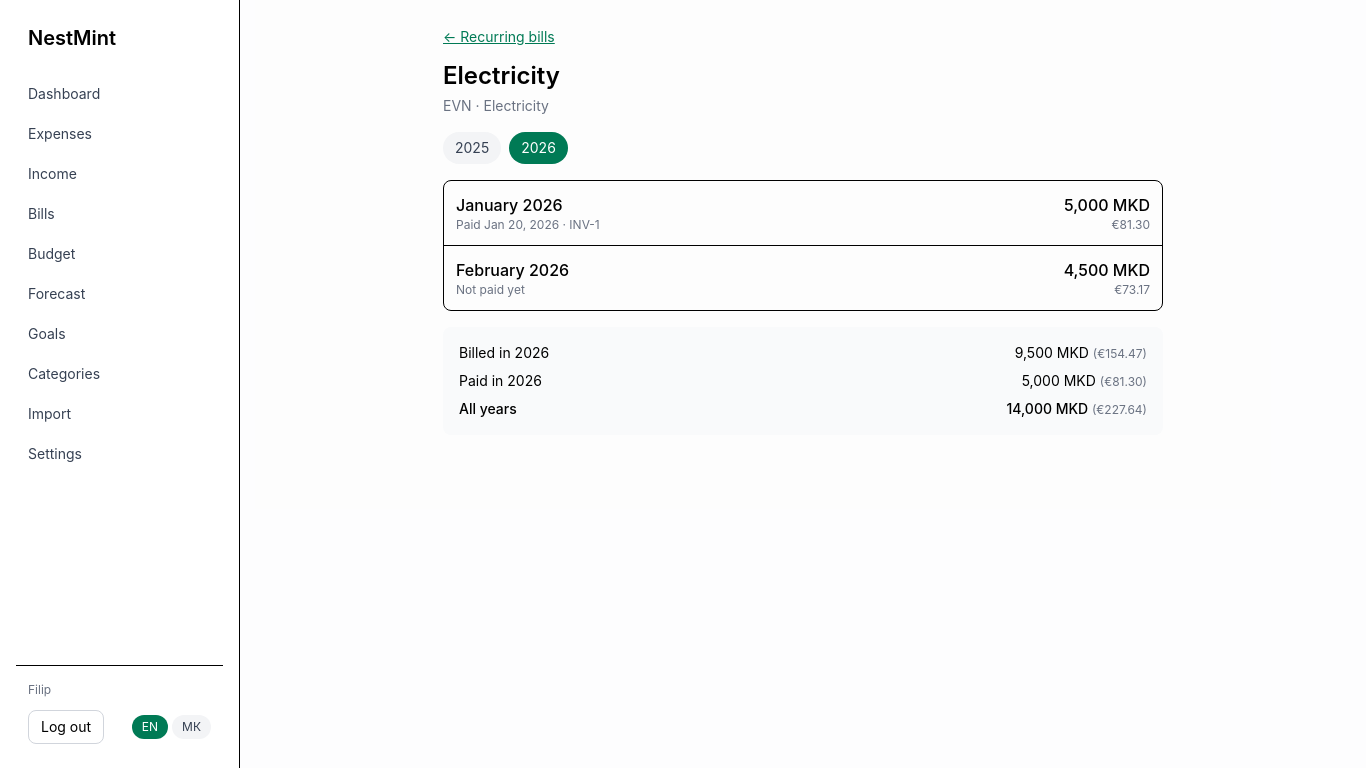
Test case: LedgerPage › switches the year and asks the server for it
Check: the text "January 2026" is shown, box [456, 195, 563, 215]
Click the button "2025".
click(472, 148)  # box [443, 132, 501, 164]
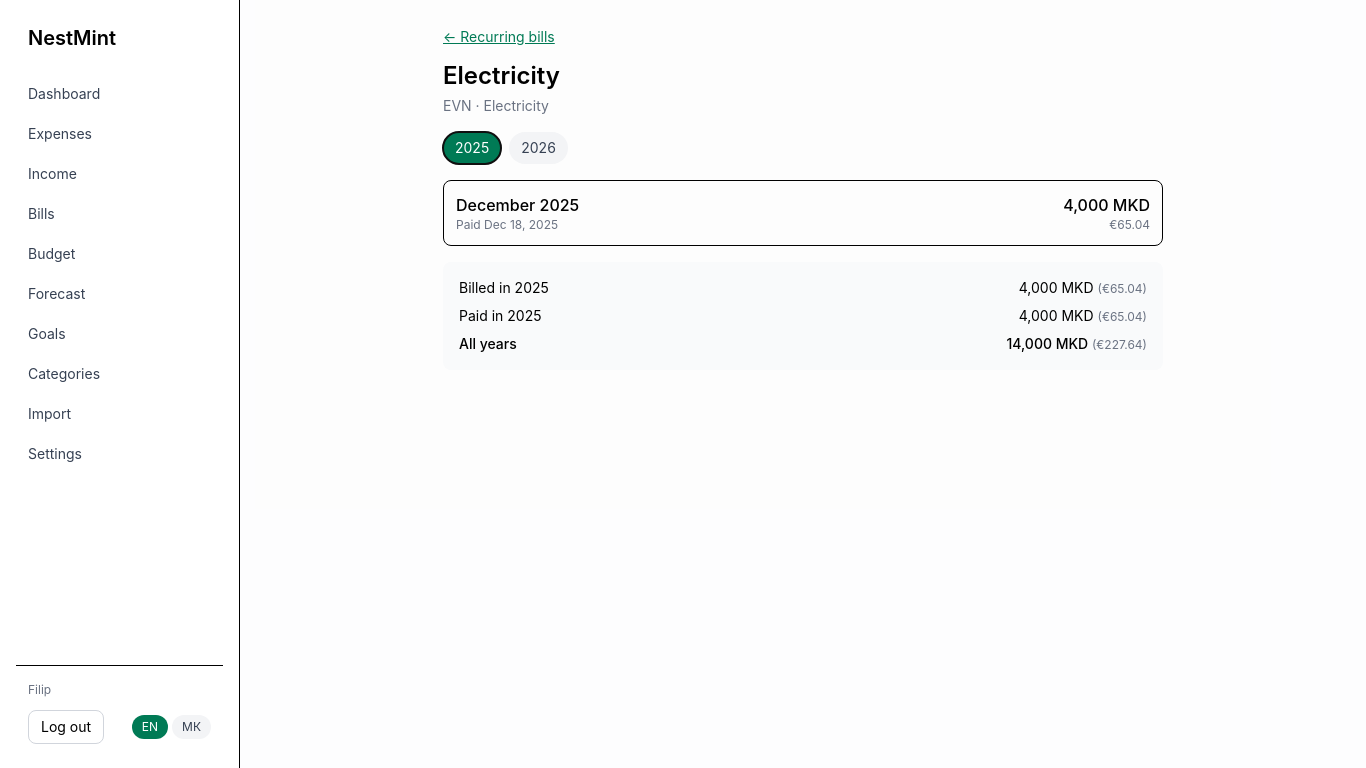
Check: the text "December 2025" is shown, box [456, 193, 579, 217]
Check: the text "January 2026" is gone
